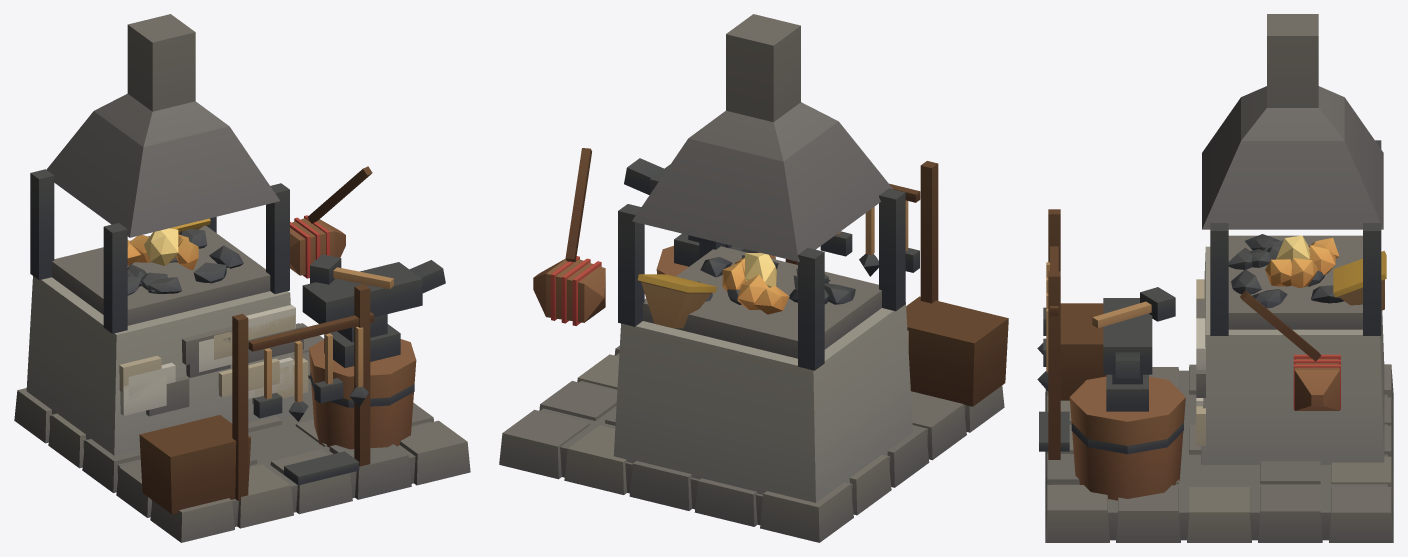
File: mach_forge.glb
3 renders of one model, left to right at view 1: azimuth 30°, elevation 25°; view 2: azimuth 150°, elevation 25°; view 3: azimuth 270°, elevation 25°, orthographic. The views are drawn at different scales.
Visible parts, largest first — view 1: mach_forge; view 2: mach_forge; view 3: mach_forge.
Boxes of the visible parts, x1,y1,x2,y2 form: mach_forge: [14, 14, 470, 542]; mach_forge: [499, 14, 1008, 542]; mach_forge: [1037, 14, 1393, 542].
Size of the model in its own units: 6.02 by 7.6 by 5.83.
Materials: 1 (1 with a texture image).
